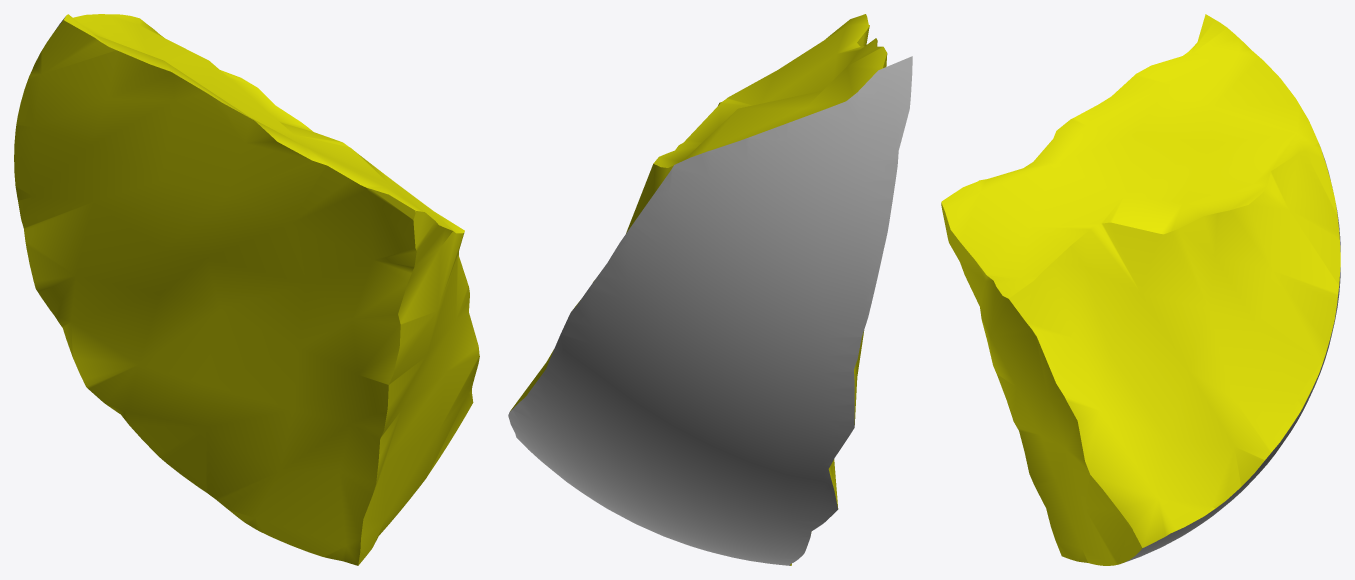
Rendered from moon_shard_4.fbx.
3 renders of one model, left to right at view 1: azimuth 30°, elevation 25°; view 2: azimuth 150°, elevation 25°; view 3: azimuth 270°, elevation 25°, orthographic. The views are drawn at different scales.
Parts seen in each view (by area): view 1: shard4; view 2: shard4; view 3: shard4.
Boxes of the visible parts, <box> form: shard4: <box>14,14,479,565</box>; shard4: <box>508,14,912,565</box>; shard4: <box>941,14,1340,565</box>.
Bounding box in the file's own units: 19.37 × 25.71 × 20.46.
